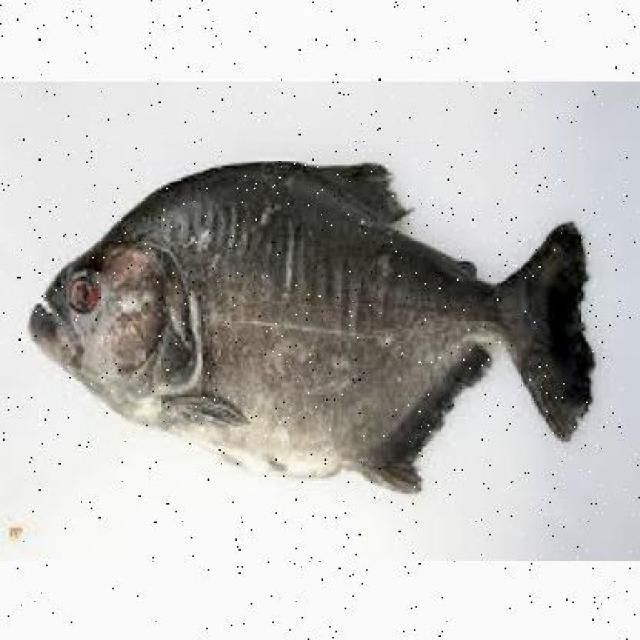ikan-pacu: (26, 158, 571, 482)
